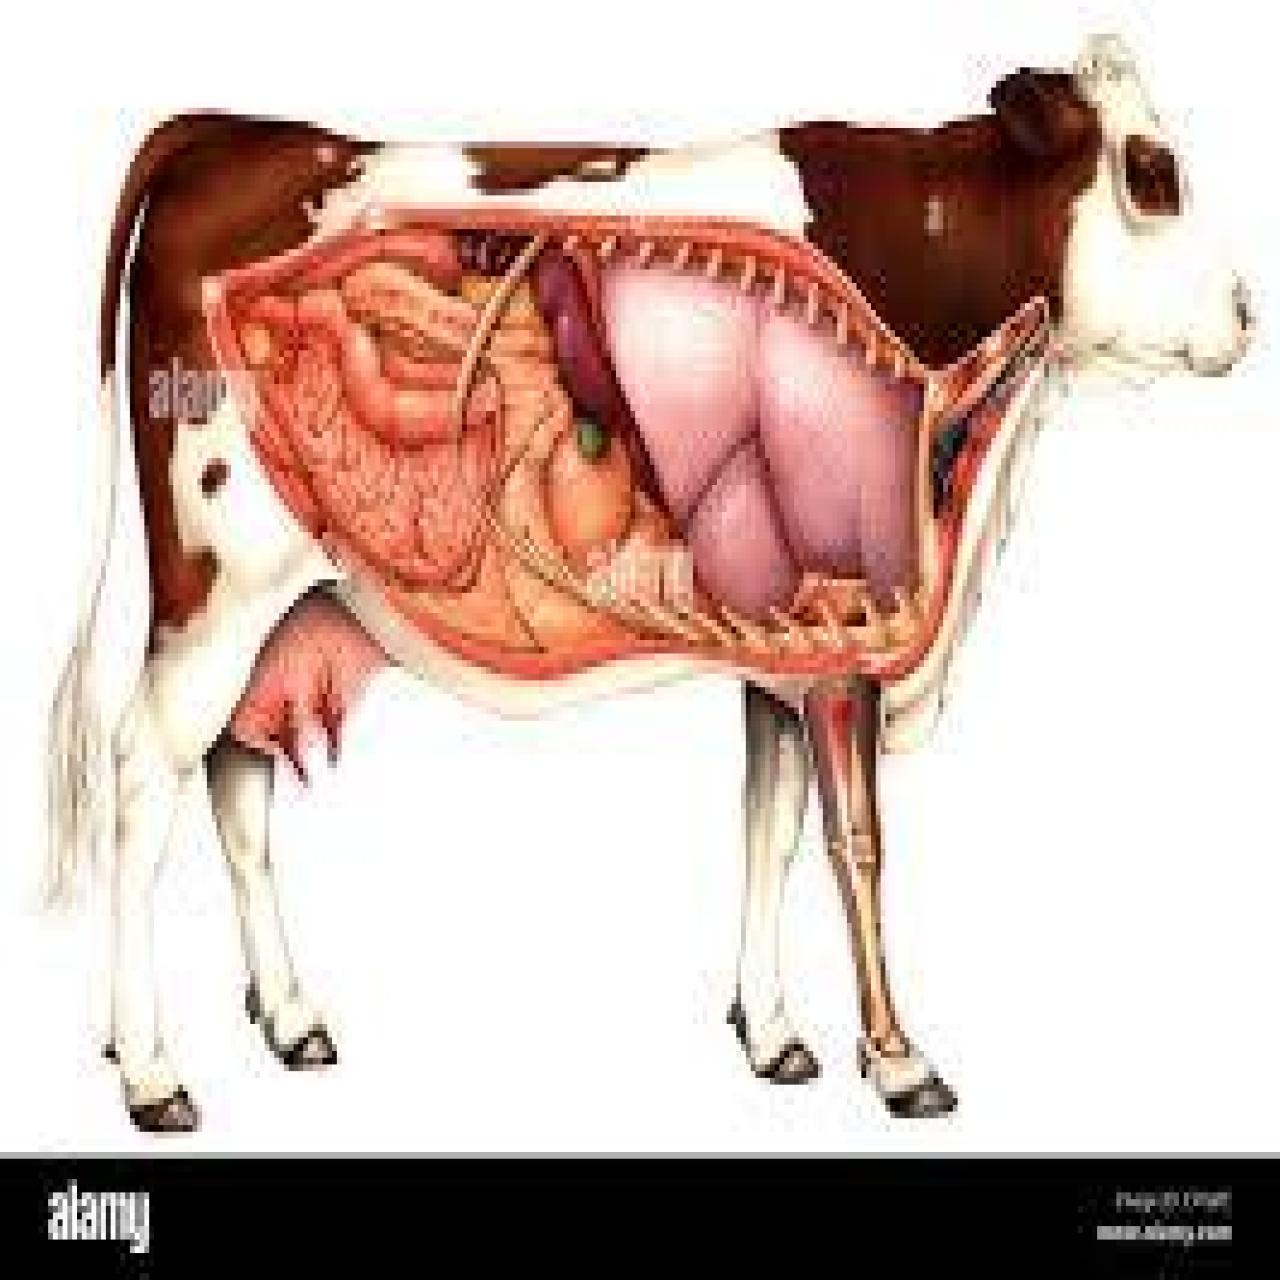cow: (50, 30, 1253, 1135)
